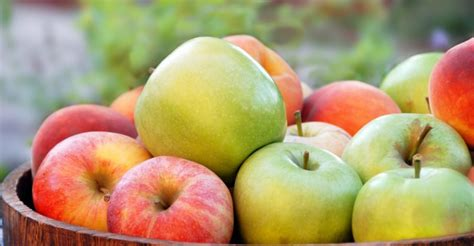apple: (132, 33, 288, 165), (233, 138, 365, 243), (27, 131, 148, 234), (106, 158, 234, 246), (353, 163, 472, 246), (349, 110, 474, 178)
